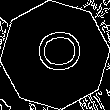O_W: (28, 31, 82, 79)
